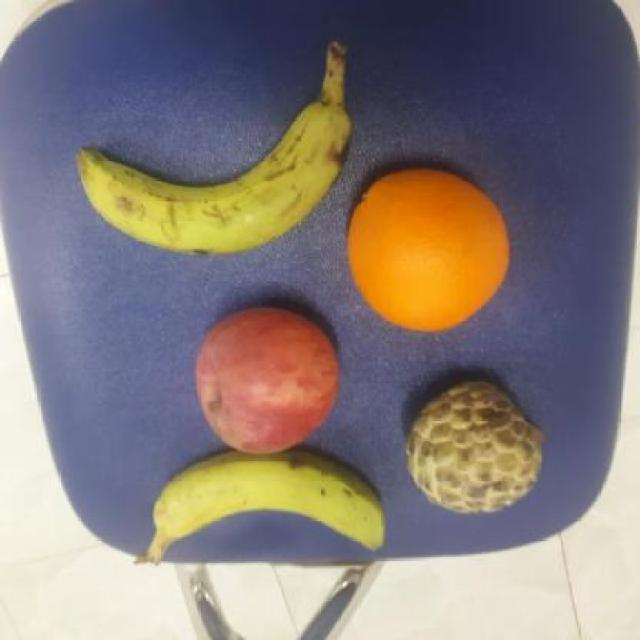apple: (189, 307, 340, 456)
banana: (76, 95, 356, 260), (146, 452, 392, 560)
oren: (339, 165, 513, 334)
sugar apple: (403, 376, 546, 516)
